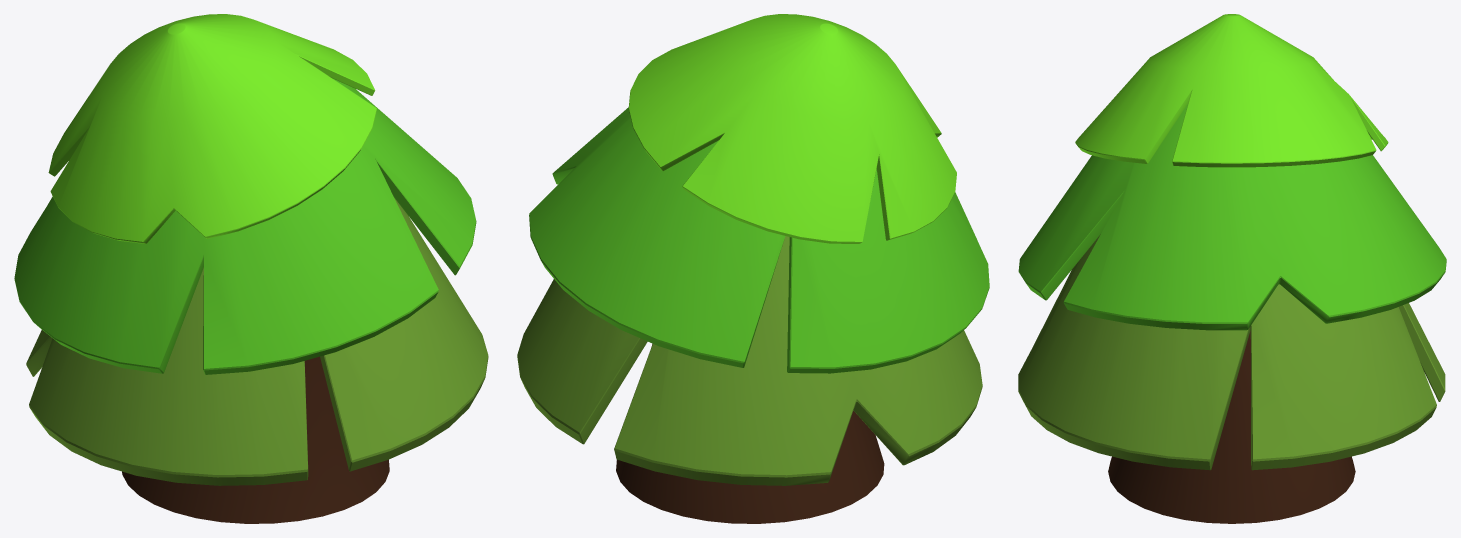
The model's file is tree1.fbx.
3 views of the same model, side by side, from view 1: azimuth 30°, elevation 25°; view 2: azimuth 150°, elevation 25°; view 3: azimuth 270°, elevation 25° (orthographic). The views are drawn at different scales.
Visible parts, largest first — view 1: Cylinder.001, Cylinder, Cylinder.002, Cylinder.003; view 2: Cylinder.001, Cylinder, Cylinder.002, Cylinder.003; view 3: Cylinder.001, Cylinder.002, Cylinder, Cylinder.003.
Part boxes in pixels (<box>): Cylinder.001: <box>14,78,476,374</box>; Cylinder: <box>48,14,376,243</box>; Cylinder.002: <box>26,198,488,485</box>; Cylinder.003: <box>122,356,389,523</box>; Cylinder.001: <box>529,107,989,373</box>; Cylinder: <box>628,14,956,243</box>; Cylinder.002: <box>517,236,982,485</box>; Cylinder.003: <box>616,344,884,523</box>; Cylinder.001: <box>1018,104,1446,330</box>; Cylinder.002: <box>1018,234,1445,470</box>; Cylinder: <box>1075,14,1388,167</box>; Cylinder.003: <box>1108,331,1355,523</box>.
Size of the model in its own units: 677 by 727 by 667.
